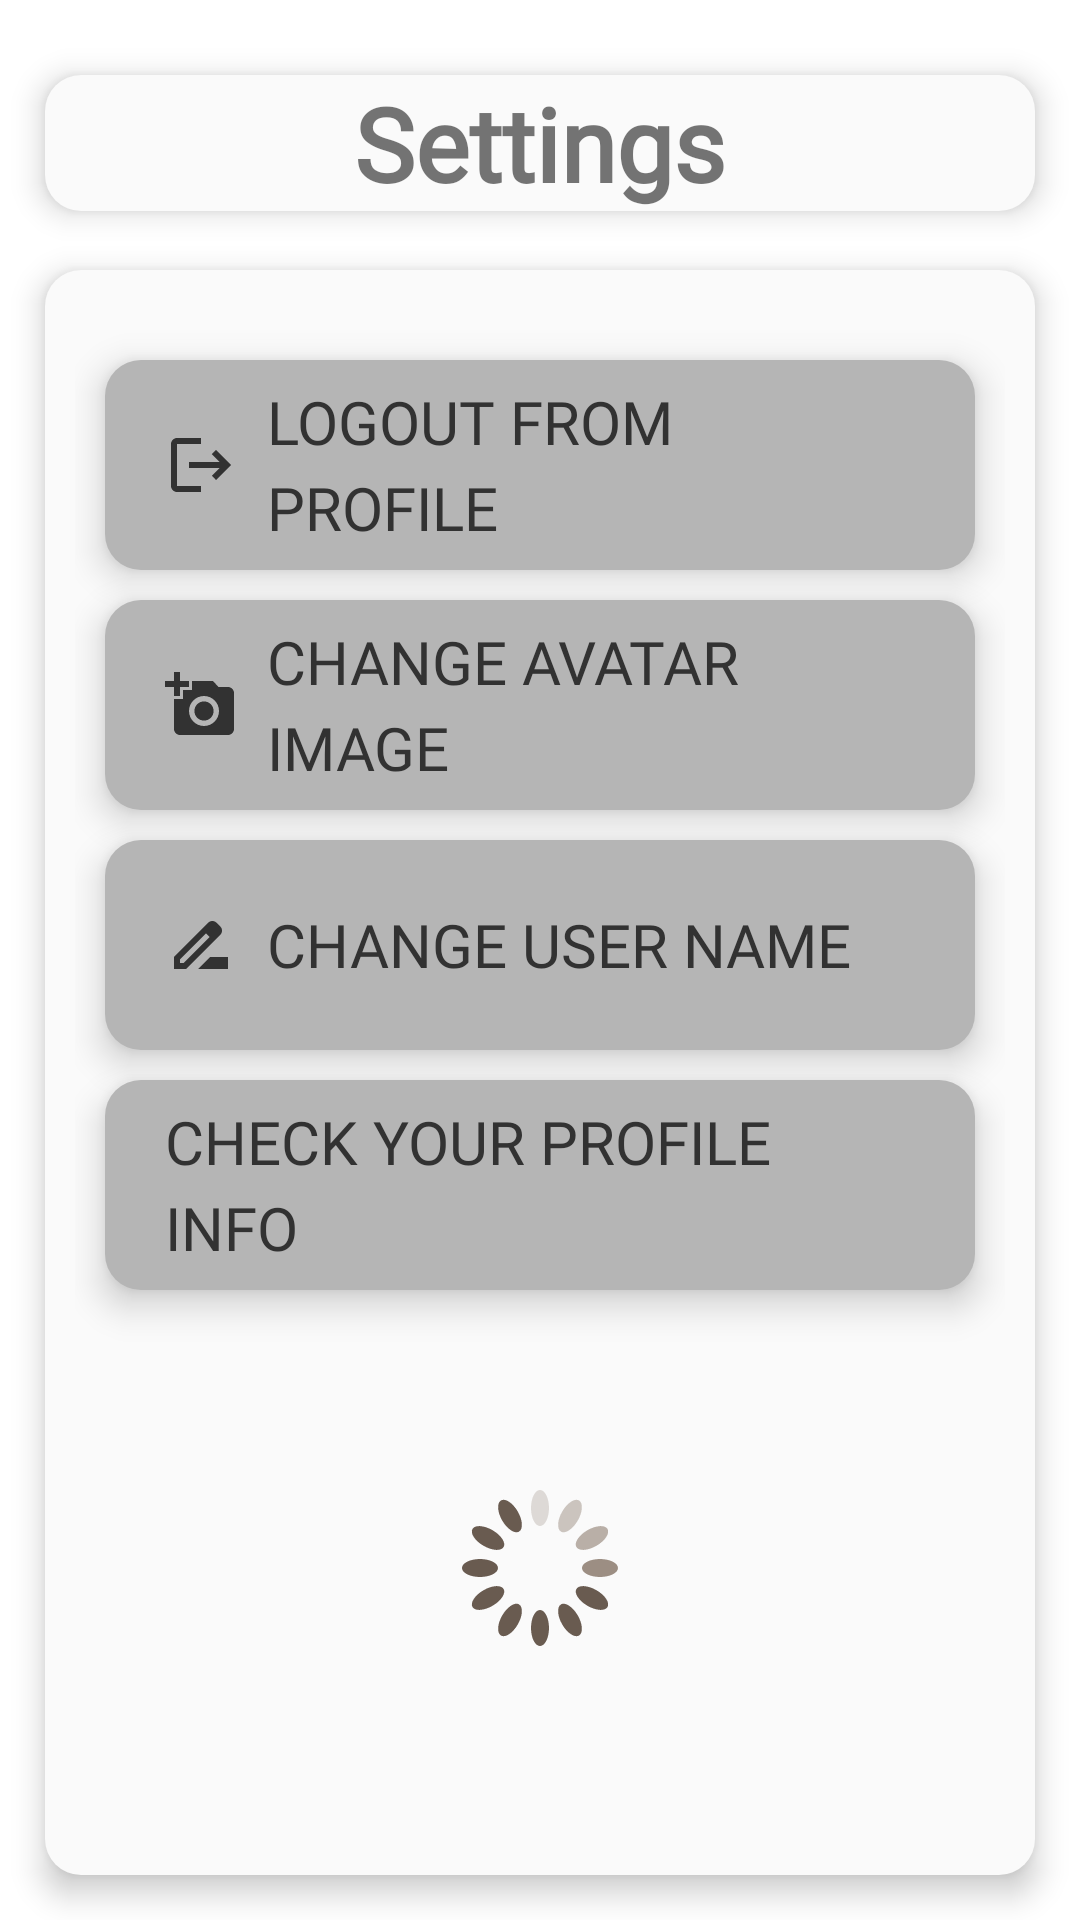

Icons on this 1080*1920 Android screen, each with the point to tap as point (x, y):
spin loading: point (540, 1568)
